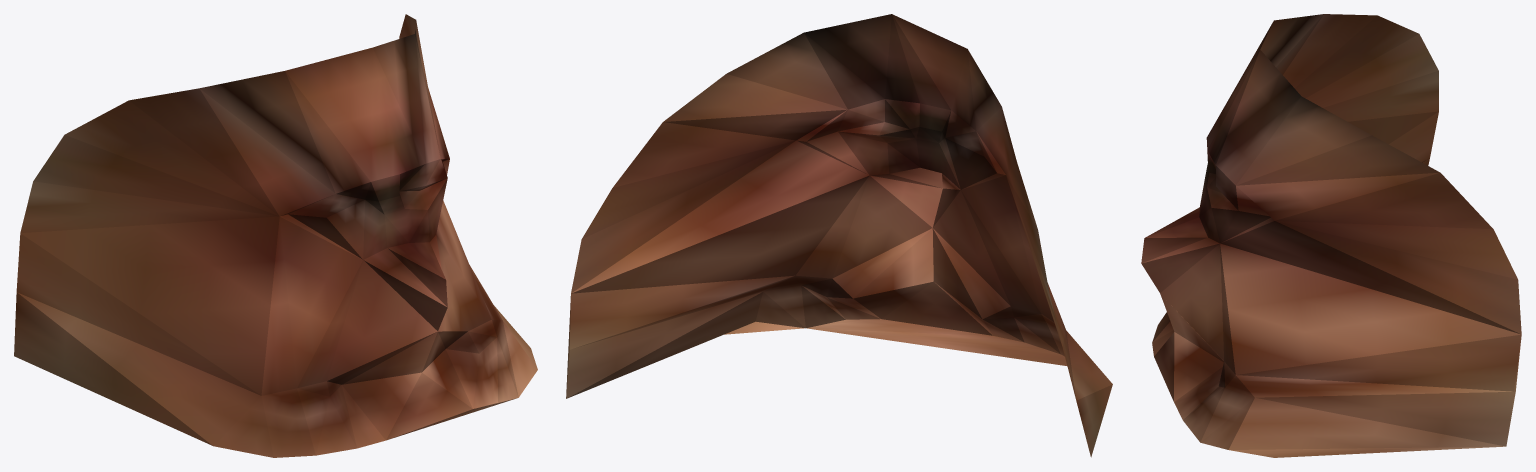
The model's file is real_11877.obj.
3 renders of one model, left to right at view 1: azimuth 30°, elevation 25°; view 2: azimuth 150°, elevation 25°; view 3: azimuth 270°, elevation 25°, orthographic. The views are drawn at different scales.
Bounding box in the file's own units: 109 × 80 × 81.2.
